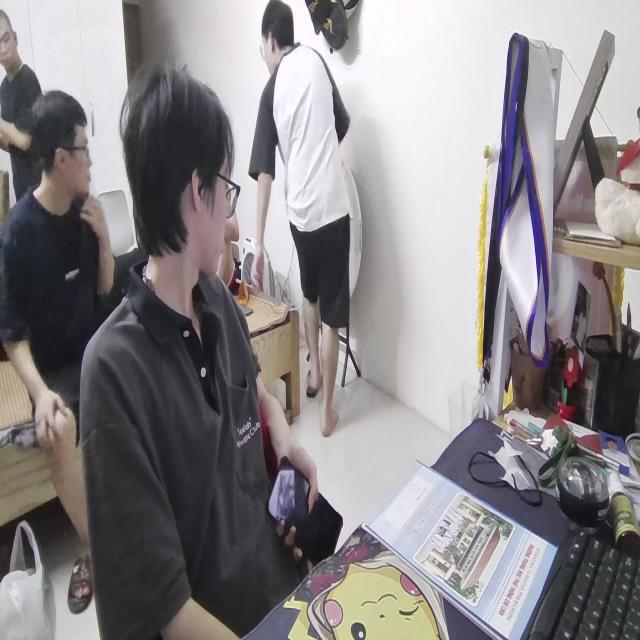book: (358, 444, 560, 640)
extra_person: (6, 83, 109, 610), (244, 9, 357, 447), (1, 9, 40, 188)
phone: (258, 450, 342, 576)
student: (79, 50, 314, 640)
